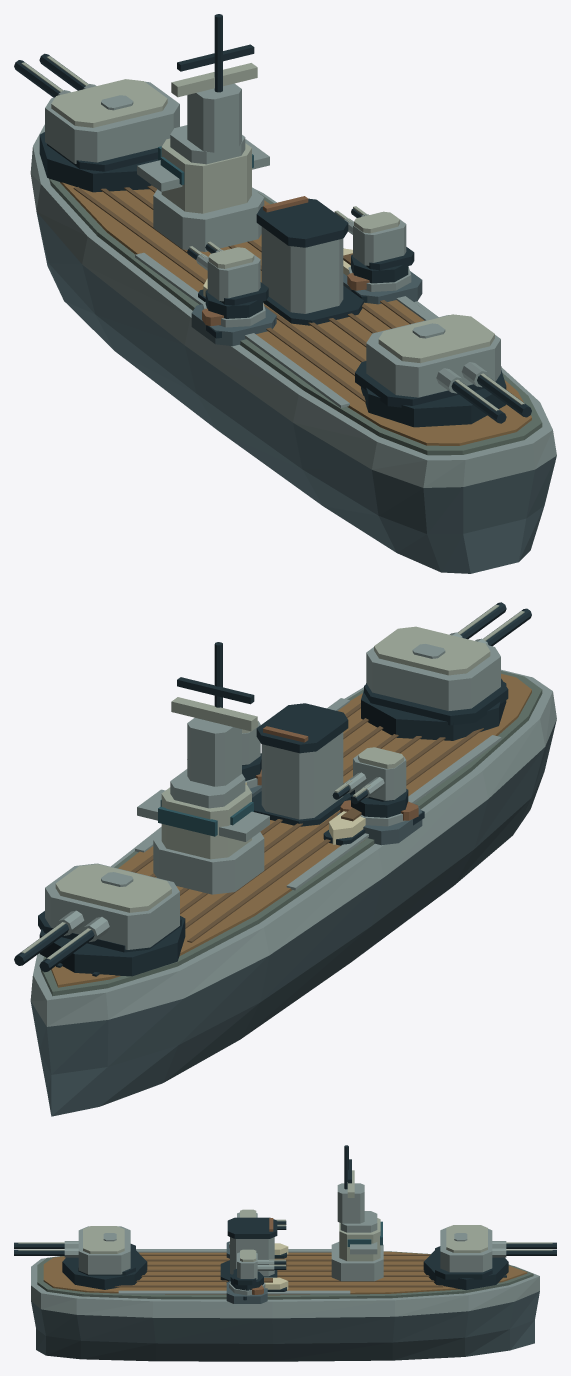
File: historic-ilmarinen.glb
3 renders of one model, top to bottom at view 1: azimuth 30°, elevation 25°; view 2: azimuth 150°, elevation 25°; view 3: azimuth 270°, elevation 25°, orthographic. The views are drawn at different scales.
Parts seen in each view (by area): view 1: historic-ilmarinen-historic-ilmarinen-geometry, historic-ilmarinen-part_bridge.063-geometry, historic-ilmarinen-turret_main_1.052-geometry, historic-ilmarinen-turret_main_0.054-geometry, historic-ilmarinen-historic_funnel_0.065-geometry, historic-ilmarinen-turret_aa_aa-port.066-geometry, historic-ilmarinen-turret_aa_aa-starboard.063-geometry, historic-ilmarinen-part_aa-port.066-geometry, historic-ilmarinen-part_aa-starboard.063-geometry; view 2: historic-ilmarinen-historic-ilmarinen-geometry, historic-ilmarinen-part_bridge.063-geometry, historic-ilmarinen-turret_main_1.052-geometry, historic-ilmarinen-turret_main_0.054-geometry, historic-ilmarinen-historic_funnel_0.065-geometry, historic-ilmarinen-turret_aa_aa-port.066-geometry, historic-ilmarinen-part_aa-port.066-geometry, historic-ilmarinen-turret_aa_aa-starboard.063-geometry; view 3: historic-ilmarinen-historic-ilmarinen-geometry, historic-ilmarinen-turret_main_0.054-geometry, historic-ilmarinen-turret_main_1.052-geometry, historic-ilmarinen-part_bridge.063-geometry, historic-ilmarinen-historic_funnel_0.065-geometry, historic-ilmarinen-turret_aa_aa-starboard.063-geometry, historic-ilmarinen-part_aa-starboard.063-geometry.
Part boxes in pixels (x1=…): historic-ilmarinen-historic-ilmarinen-geometry: x1=30, y1=124, x2=556, y2=573; historic-ilmarinen-part_bridge.063-geometry: x1=137, y1=14, x2=269, y2=251; historic-ilmarinen-turret_main_1.052-geometry: x1=355, y1=314, x2=531, y2=427; historic-ilmarinen-turret_main_0.054-geometry: x1=14, y1=53, x2=179, y2=192; historic-ilmarinen-historic_funnel_0.065-geometry: x1=256, y1=196, x2=363, y2=325; historic-ilmarinen-turret_aa_aa-port.066-geometry: x1=187, y1=241, x2=268, y2=318; historic-ilmarinen-turret_aa_aa-starboard.063-geometry: x1=334, y1=206, x2=414, y2=283; historic-ilmarinen-part_aa-port.066-geometry: x1=191, y1=302, x2=276, y2=346; historic-ilmarinen-part_aa-starboard.063-geometry: x1=343, y1=266, x2=422, y2=304; historic-ilmarinen-historic-ilmarinen-geometry: x1=30, y1=669, x2=556, y2=1116; historic-ilmarinen-part_bridge.063-geometry: x1=137, y1=642, x2=269, y2=894; historic-ilmarinen-turret_main_1.052-geometry: x1=361, y1=602, x2=531, y2=740; historic-ilmarinen-turret_main_0.054-geometry: x1=14, y1=863, x2=185, y2=976; historic-ilmarinen-historic_funnel_0.065-geometry: x1=252, y1=703, x2=350, y2=826; historic-ilmarinen-turret_aa_aa-port.066-geometry: x1=332, y1=747, x2=408, y2=817; historic-ilmarinen-part_aa-port.066-geometry: x1=337, y1=801, x2=422, y2=845; historic-ilmarinen-turret_aa_aa-starboard.063-geometry: x1=242, y1=721, x2=261, y2=780; historic-ilmarinen-historic-ilmarinen-geometry: x1=31, y1=1243, x2=539, y2=1361; historic-ilmarinen-turret_main_0.054-geometry: x1=423, y1=1225, x2=556, y2=1290; historic-ilmarinen-turret_main_1.052-geometry: x1=14, y1=1226, x2=147, y2=1289; historic-ilmarinen-part_bridge.063-geometry: x1=331, y1=1145, x2=383, y2=1281; historic-ilmarinen-historic_funnel_0.065-geometry: x1=220, y1=1217, x2=277, y2=1282; historic-ilmarinen-turret_aa_aa-starboard.063-geometry: x1=230, y1=1249, x2=286, y2=1290; historic-ilmarinen-part_aa-starboard.063-geometry: x1=226, y1=1281, x2=267, y2=1303.
Size of the model in its own units: 1.16 by 1.84 by 4.61.
